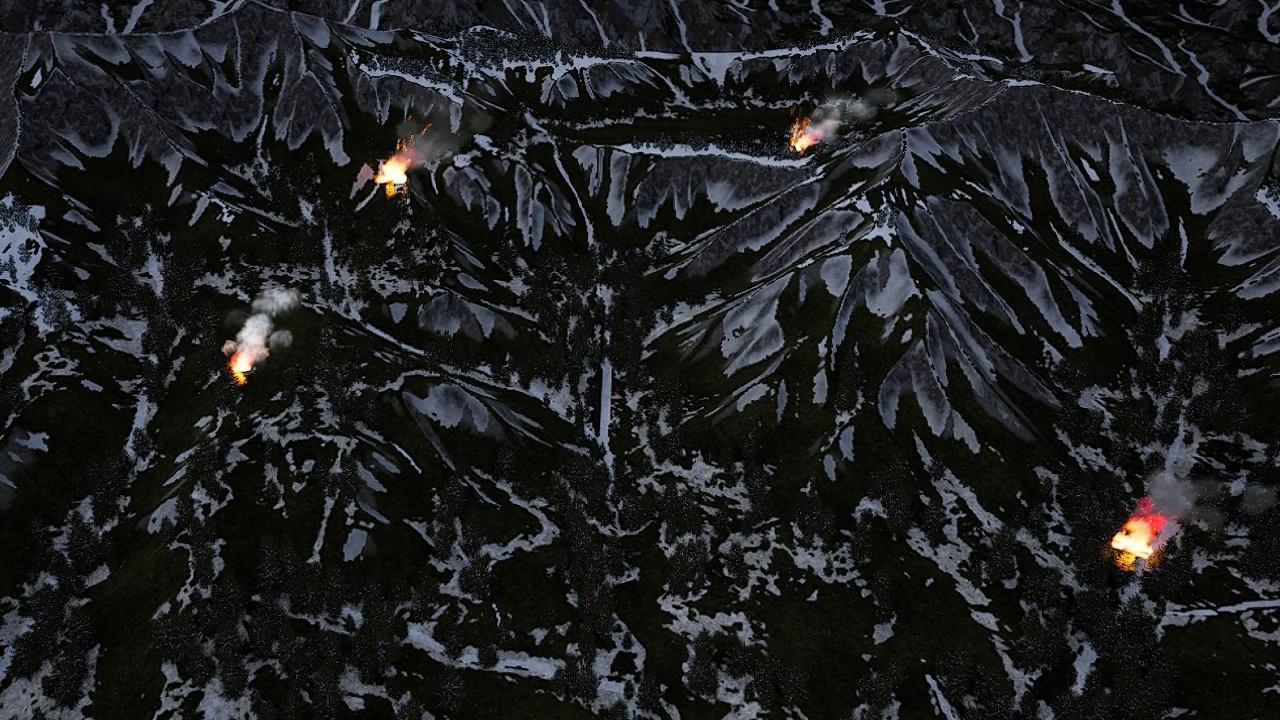fire: (1111, 516, 1158, 561), (374, 159, 406, 190), (228, 352, 251, 381), (790, 131, 814, 153)
smoke: (1138, 459, 1273, 544), (227, 285, 305, 364), (803, 86, 893, 139), (396, 118, 468, 169)
